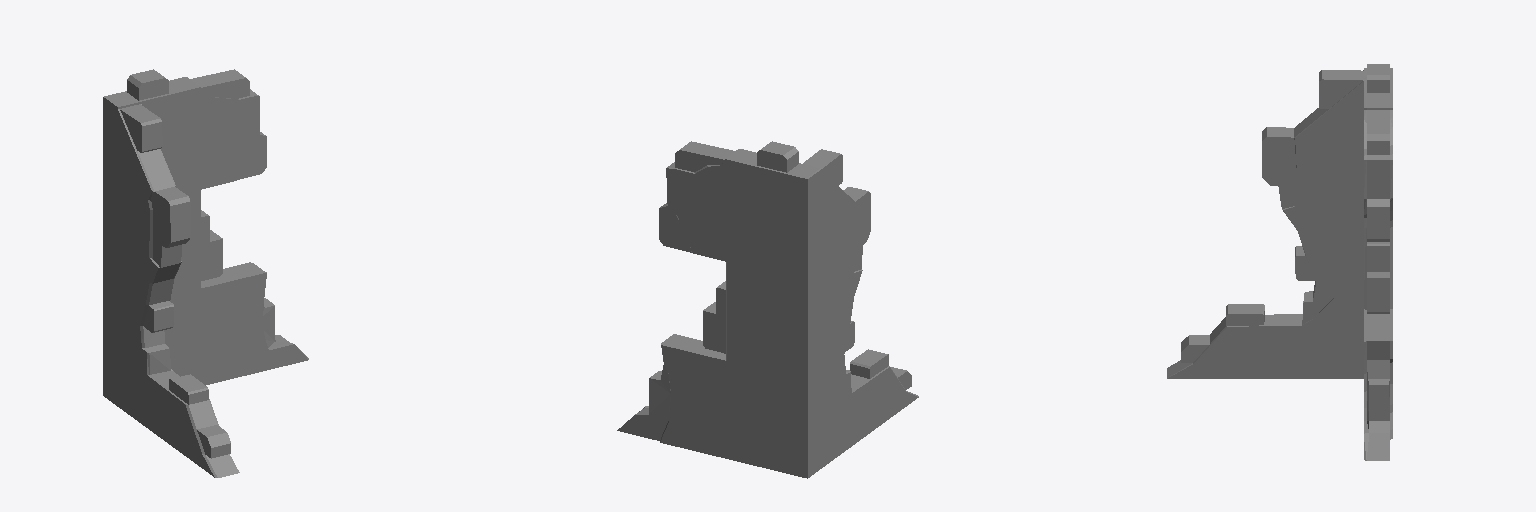
File: ChunkyBrokenWall01.obj
The picture shows the model from 3 angles: view 1: azimuth 30°, elevation 25°; view 2: azimuth 150°, elevation 25°; view 3: azimuth 270°, elevation 25°; orthographic projection.
Parts seen in each view (by area): view 1: ChunkyBrokenWall01_Lowpoly; view 2: ChunkyBrokenWall01_Lowpoly; view 3: ChunkyBrokenWall01_Lowpoly.
Boxes of the visible parts, box(x1,y1,x2,y2) form: ChunkyBrokenWall01_Lowpoly: box(103, 69, 308, 477); ChunkyBrokenWall01_Lowpoly: box(617, 141, 918, 478); ChunkyBrokenWall01_Lowpoly: box(1167, 64, 1392, 460).
Bounding box in the file's own units: 18.96 × 29.76 × 19.26.